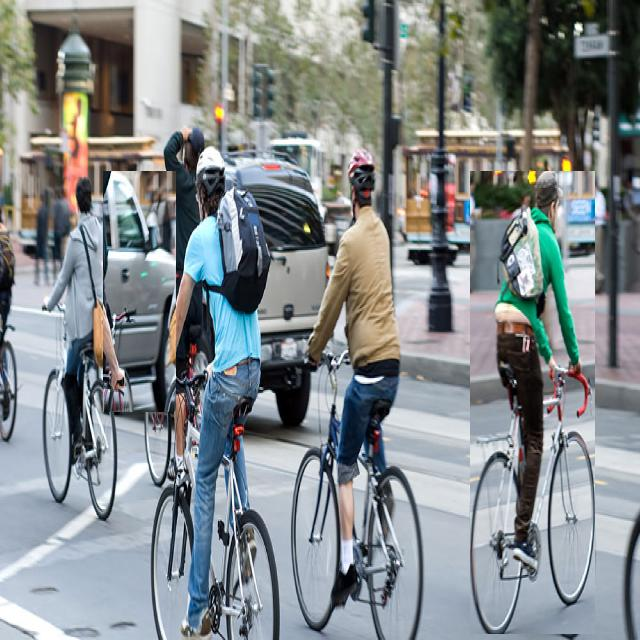bicycle: (291, 151, 422, 638), (151, 145, 279, 640), (470, 171, 595, 634), (42, 177, 118, 517)
car: (225, 157, 329, 424), (103, 171, 175, 412)
